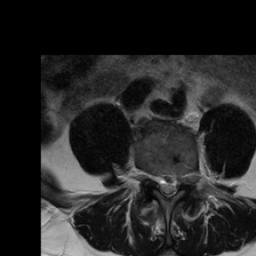CCS_normal: (163, 165, 171, 204)
LFS_normal: (179, 165, 188, 192)
LLS_normal: (171, 165, 179, 198)
RFS_stenosis: (147, 163, 155, 187)
RLS_normal: (155, 165, 163, 197)
